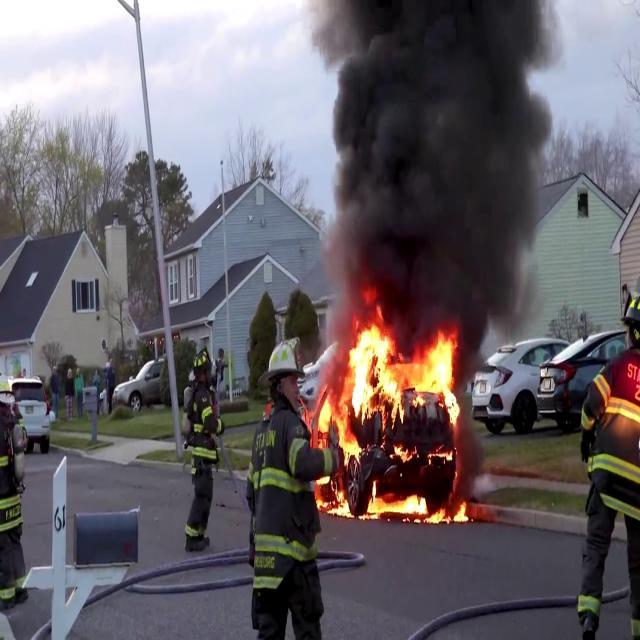Fire: (316, 314, 466, 520)
Smoke: (315, 0, 561, 329)
